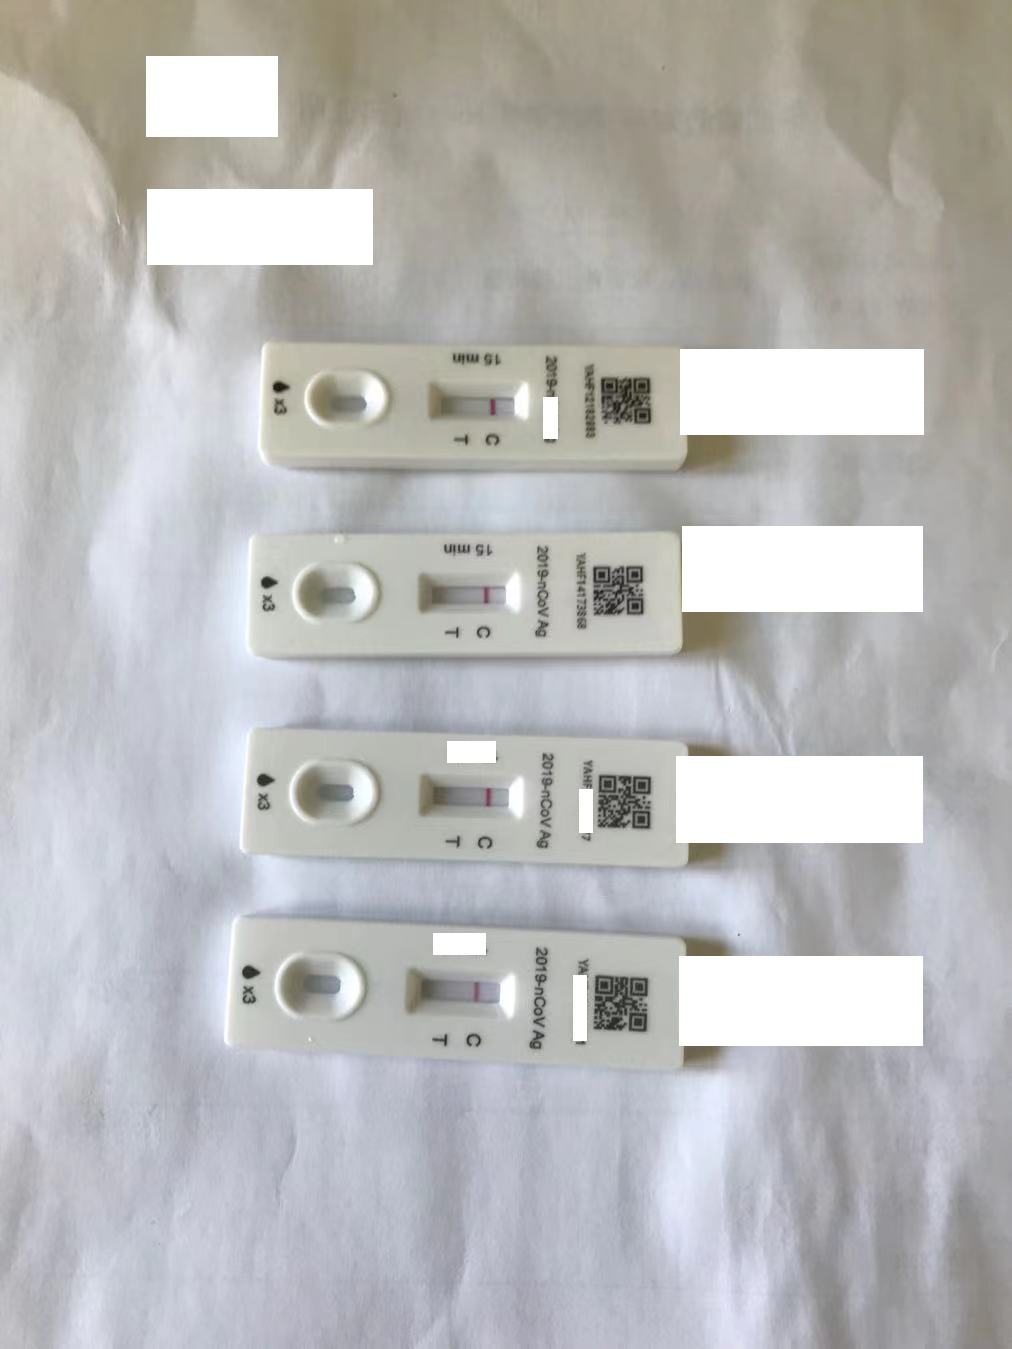negative: (404, 968, 515, 1015), (421, 770, 517, 816)
